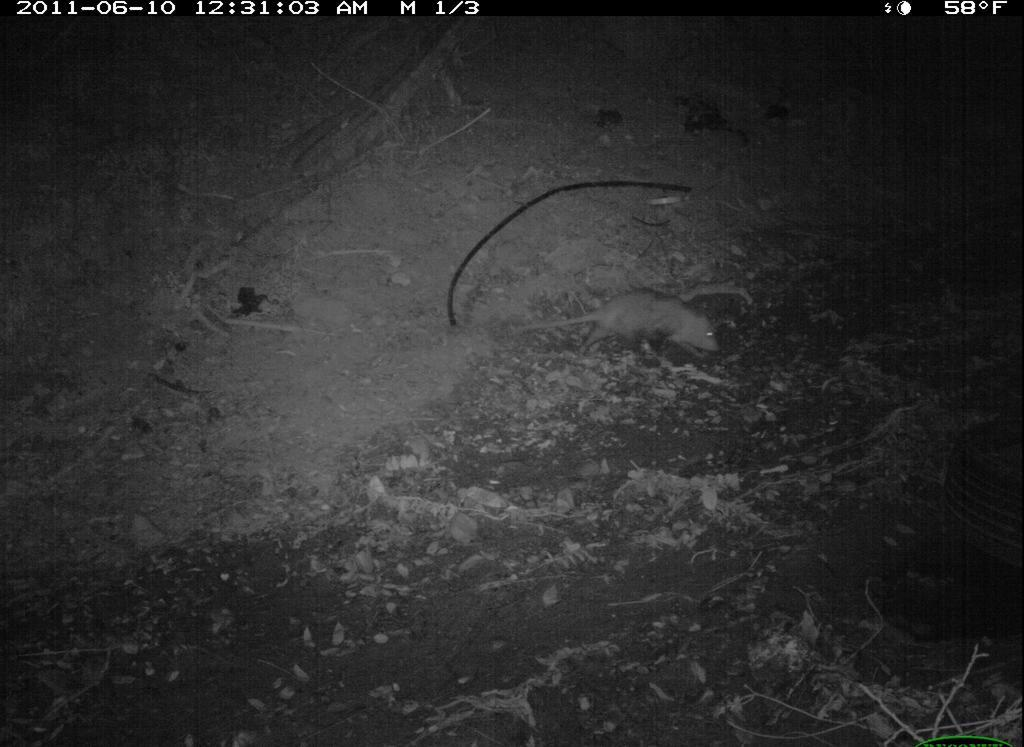opossum: (507, 286, 733, 373)
